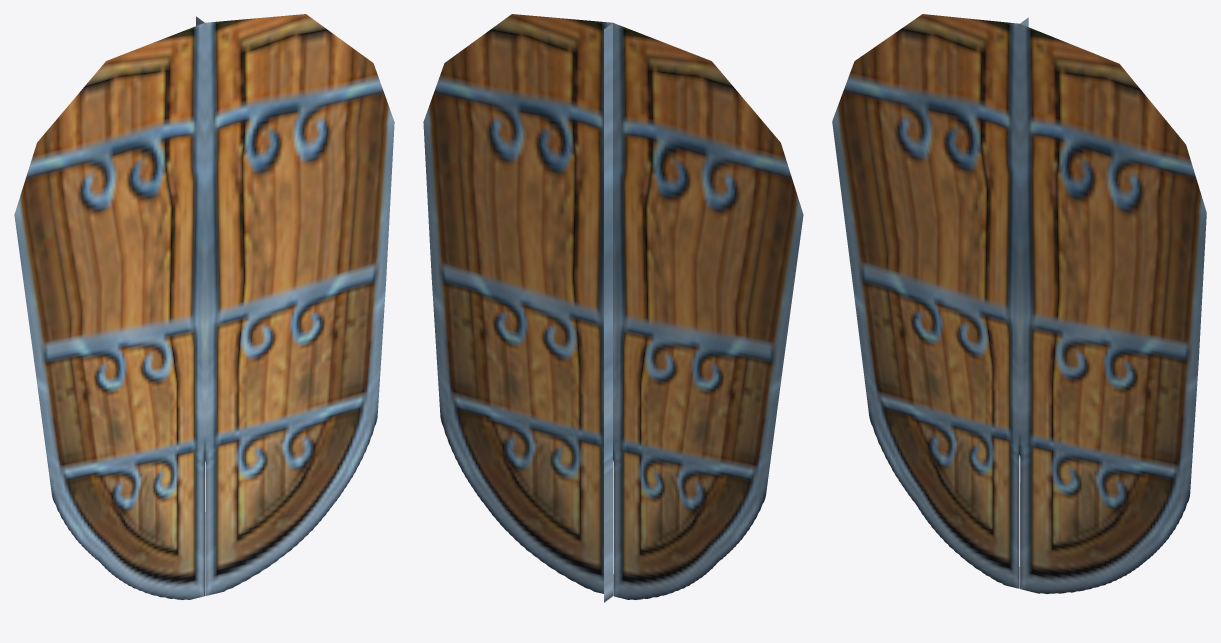
File: gate_03.dae
3 renders of one model, left to right at view 1: azimuth 30°, elevation 25°; view 2: azimuth 150°, elevation 25°; view 3: azimuth 330°, elevation 25°, orthographic.
Parts seen in each view (by area): view 1: gate00_PIVOT; view 2: gate00_PIVOT; view 3: gate00_PIVOT.
Boxes of the visible parts, x1=… form: gate00_PIVOT: x1=14, y1=14, x2=394, y2=599; gate00_PIVOT: x1=423, y1=14, x2=803, y2=602; gate00_PIVOT: x1=832, y1=14, x2=1206, y2=593.
Bounding box in the file's own units: 2.42 × 3.49 × 0.0993.
Materials: 1 (1 with a texture image).
